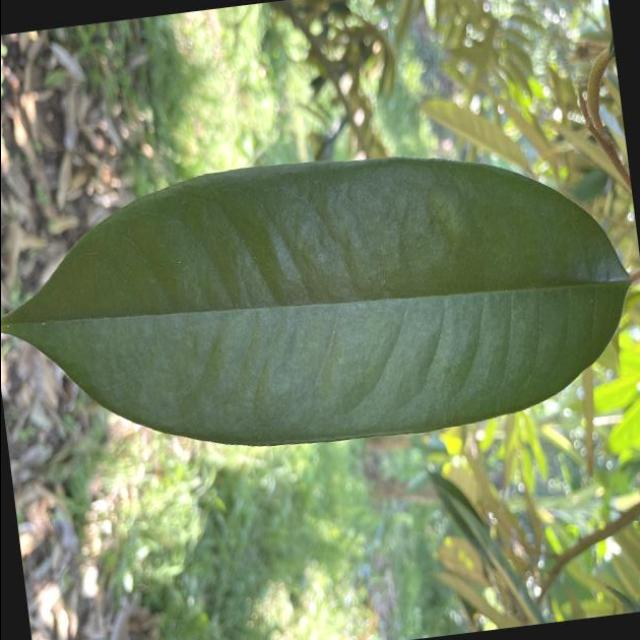No Disease: (0, 115, 640, 488)
